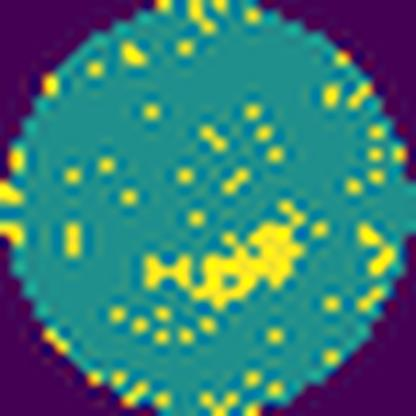Loc: (141, 196, 310, 312)
